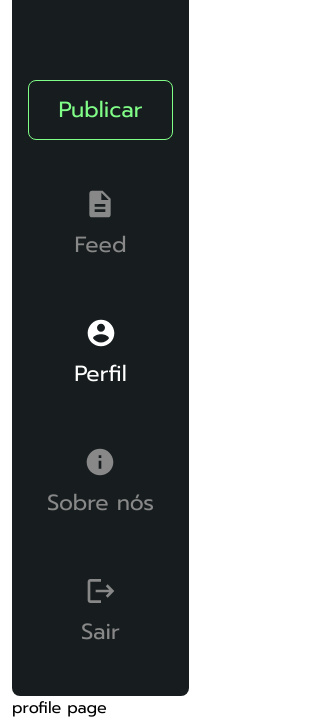
Scenario: Sidebar › offers "Sair" to logged-in users and goes back to the feed after logging out
(page scrolled)
Click the button "Sair".
click(100, 612)  # box 65,567 -> 136,656
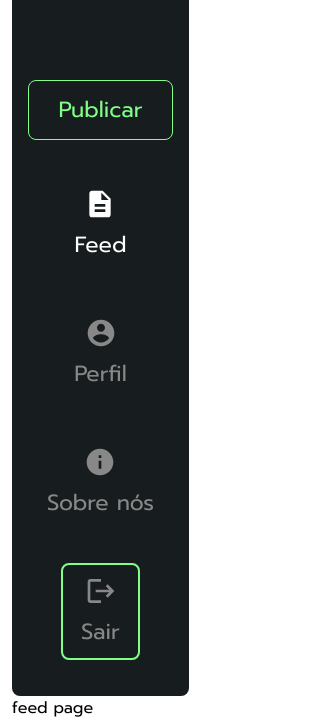
Expected: the text "feed page" is shown, 12,696 -> 93,719
